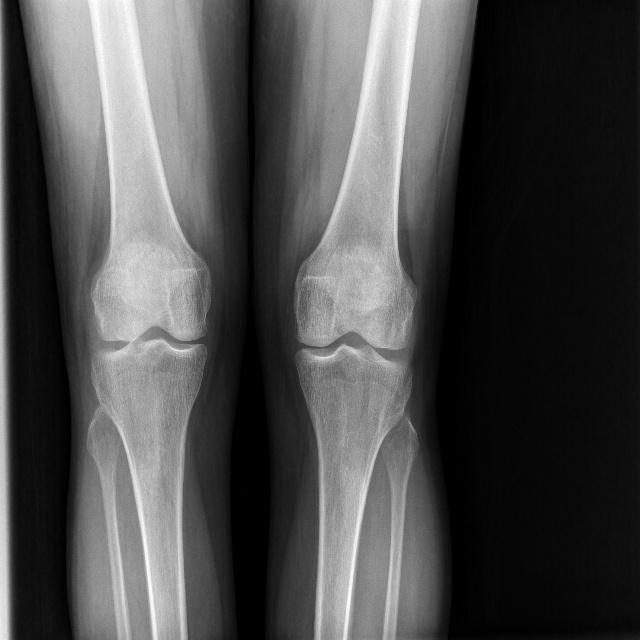Knee: (290, 269, 415, 414), (84, 264, 212, 405)
